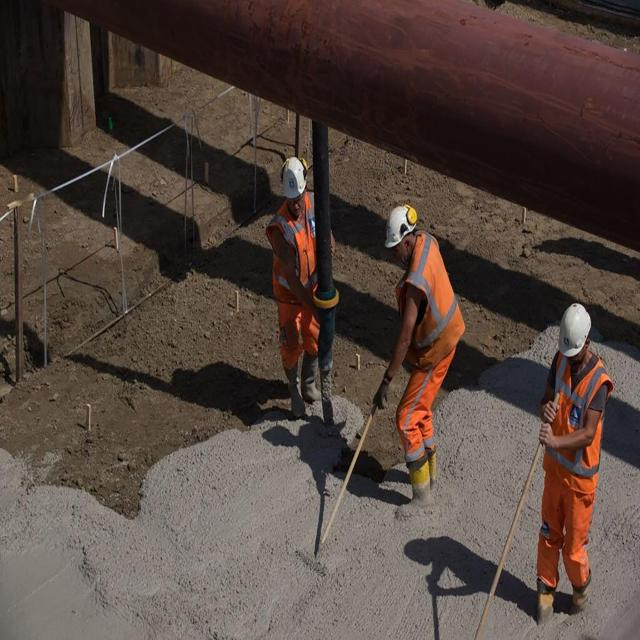Helmet: (558, 302, 592, 361), (386, 205, 419, 252), (283, 157, 309, 204)
Jacket: (551, 355, 603, 479), (405, 240, 448, 374), (279, 203, 314, 308)
